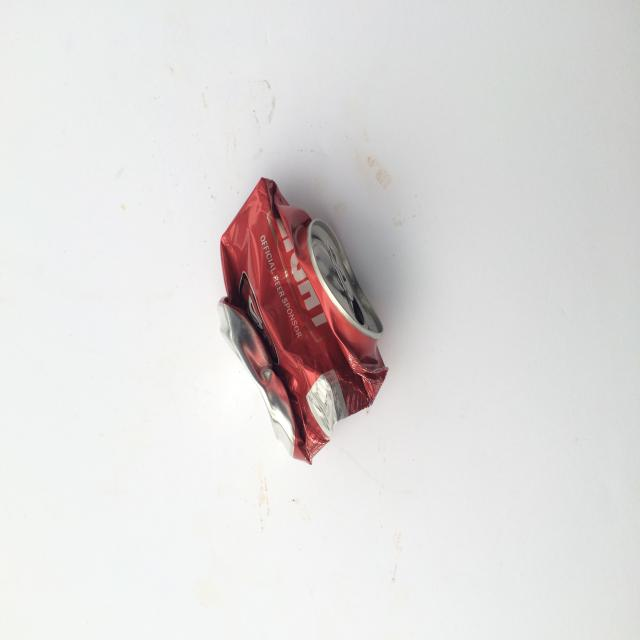metal: (217, 176, 388, 464)
